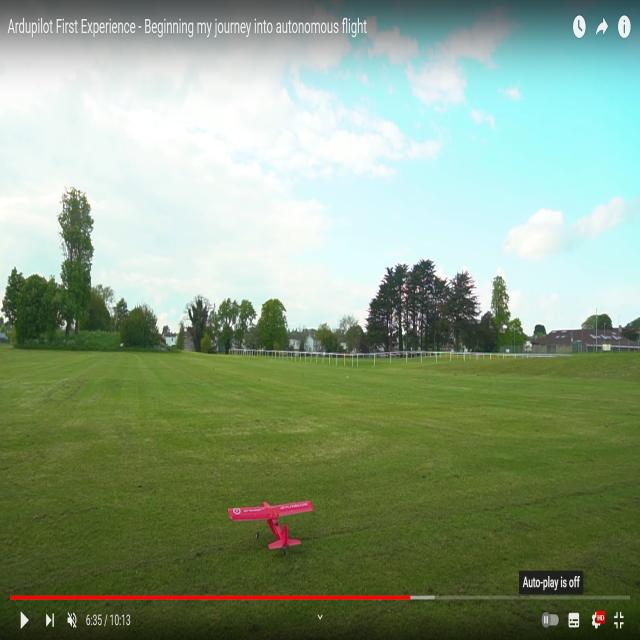iha: (260, 494, 279, 542)
